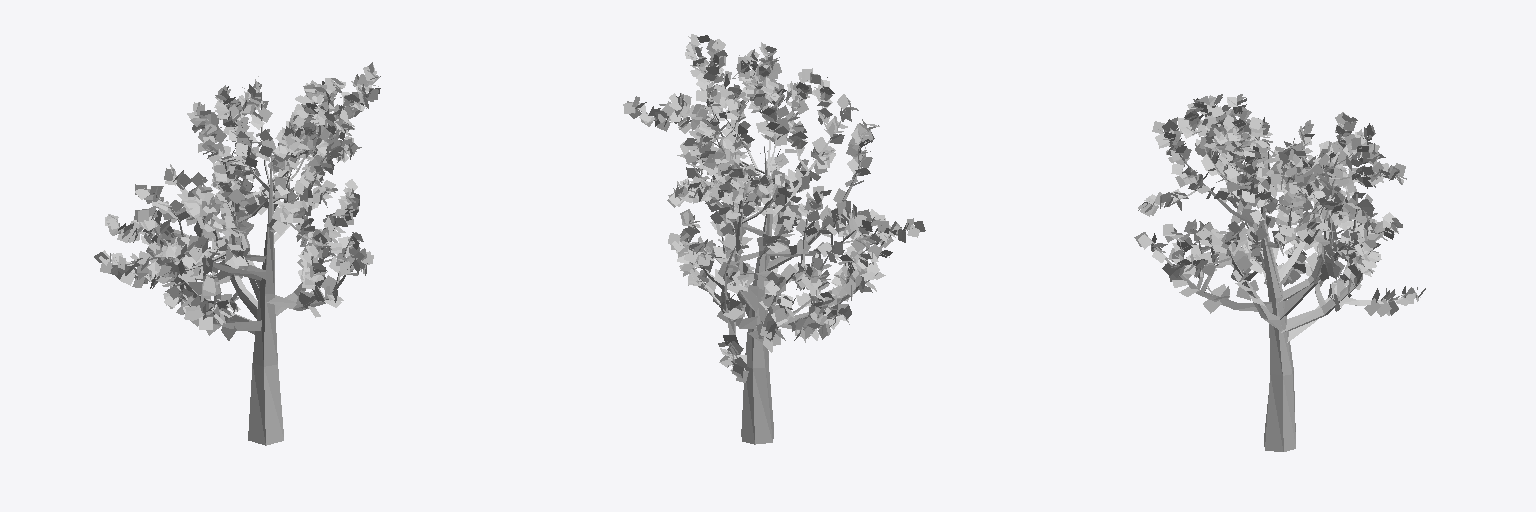
The model's file is generated_tree.obj.
3 views of the same model, side by side, from view 1: azimuth 30°, elevation 25°; view 2: azimuth 150°, elevation 25°; view 3: azimuth 270°, elevation 25° (orthographic).
Visible parts, largest first — view 1: trunk; view 2: trunk; view 3: trunk.
Boxes of the visible parts, <box> form: trunk: <box>94,62,380,445</box>; trunk: <box>623,34,925,444</box>; trunk: <box>1134,94,1425,451</box>.
Size of the model in its own units: 13.38 by 18.44 by 13.2.